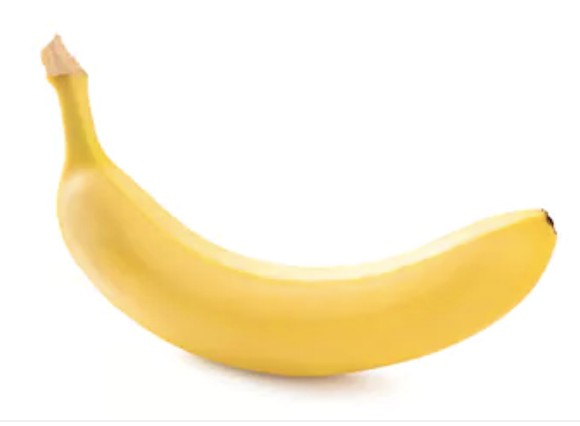fresh_banana: (41, 34, 558, 375)
